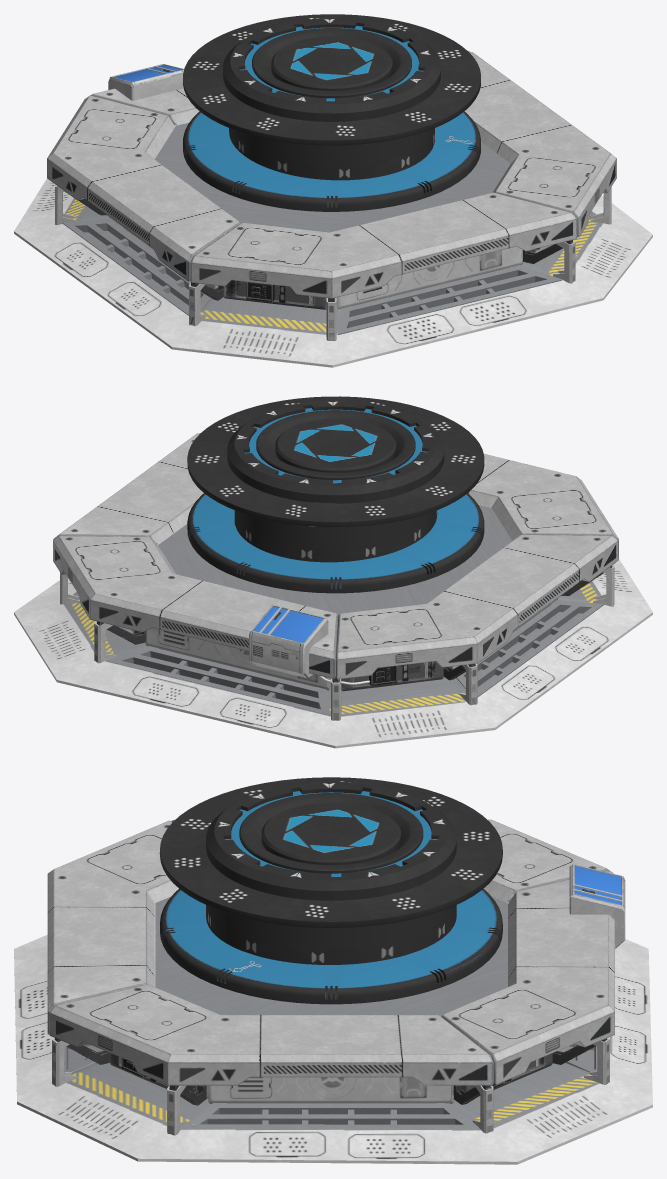
Rendered from Props.fbx.
3 renders of one model, top to bottom at view 1: azimuth 30°, elevation 25°; view 2: azimuth 150°, elevation 25°; view 3: azimuth 270°, elevation 25°, orthographic. The views are drawn at different scales.
Visible parts, largest first — view 1: Shelf, Table Top Bottom, Table 3, Table 2, Table 4, Desk, Stand, Screen, Table 1, Desk Detail; view 2: Shelf, Table Top Bottom, Table 2, Table 1, Table 3, Table 4, Screen, Desk, Stand, Desk Detail; view 3: Shelf, Table Top Bottom, Table 4, Table 1, Table 3, Desk, Stand, Table 2, Screen.
Part boxes in pixels (left/top/right/bottom): Shelf: left=183, top=14, right=480, bottom=211; Table Top Bottom: left=14, top=122, right=652, bottom=367; Table 3: left=190, top=192, right=577, bottom=298; Table 2: left=47, top=95, right=240, bottom=281; Table 4: left=464, top=52, right=616, bottom=237; Desk: left=108, top=125, right=536, bottom=309; Stand: left=55, top=184, right=611, bottom=340; Screen: left=108, top=64, right=184, bottom=100; Table 1: left=91, top=51, right=470, bottom=125; Desk Detail: left=246, top=248, right=539, bottom=303; Shelf: left=187, top=396, right=484, bottom=593; Table Top Bottom: left=14, top=504, right=652, bottom=748; Table 2: left=336, top=534, right=618, bottom=679; Table 1: left=53, top=536, right=338, bottom=678; Table 3: left=468, top=454, right=618, bottom=558; Table 4: left=53, top=433, right=203, bottom=544; Screen: left=249, top=604, right=328, bottom=678; Desk: left=131, top=544, right=558, bottom=691; Stand: left=60, top=565, right=614, bottom=720; Desk Detail: left=369, top=664, right=408, bottom=685; Shelf: left=160, top=777, right=502, bottom=1004; Table Top Bottom: left=14, top=896, right=652, bottom=1164; Table 4: left=49, top=984, right=493, bottom=1085; Table 1: left=441, top=870, right=614, bottom=1084; Table 3: left=47, top=820, right=178, bottom=1033; Desk: left=103, top=902, right=559, bottom=1103; Stand: left=52, top=1037, right=609, bottom=1135; Table 2: left=171, top=819, right=613, bottom=902; Screen: left=569, top=864, right=625, bottom=948.
Bounding box in the file's own units: 705 × 241 × 705.
